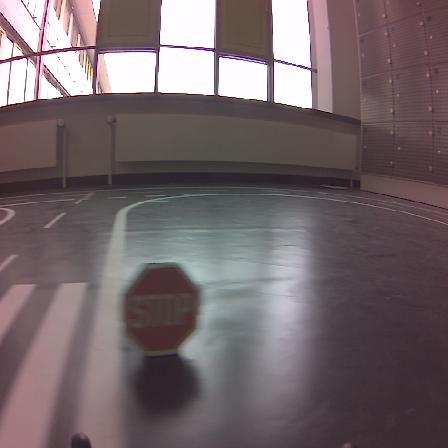STOP: (125, 263, 198, 355)
